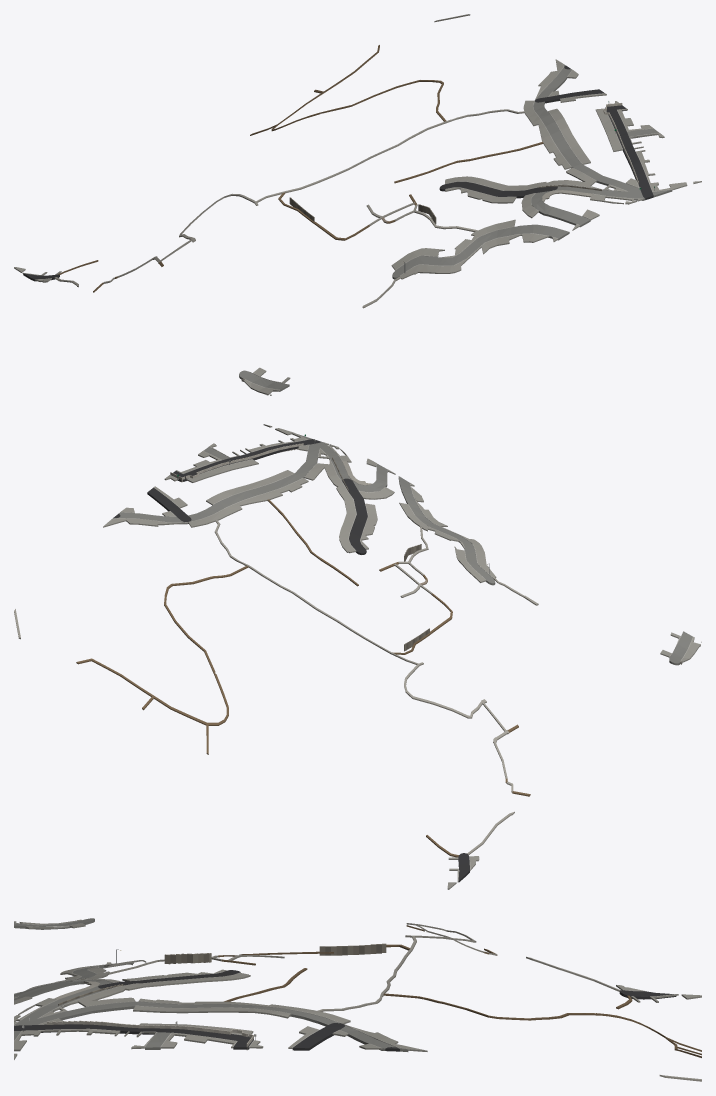
3 renders of one model, top to bottom at view 1: azimuth 30°, elevation 25°; view 2: azimuth 150°, elevation 25°; view 3: azimuth 270°, elevation 25°, orthographic. The views are drawn at different scales.
Bounding box in the file's own units: 294 × 116 × 292.
